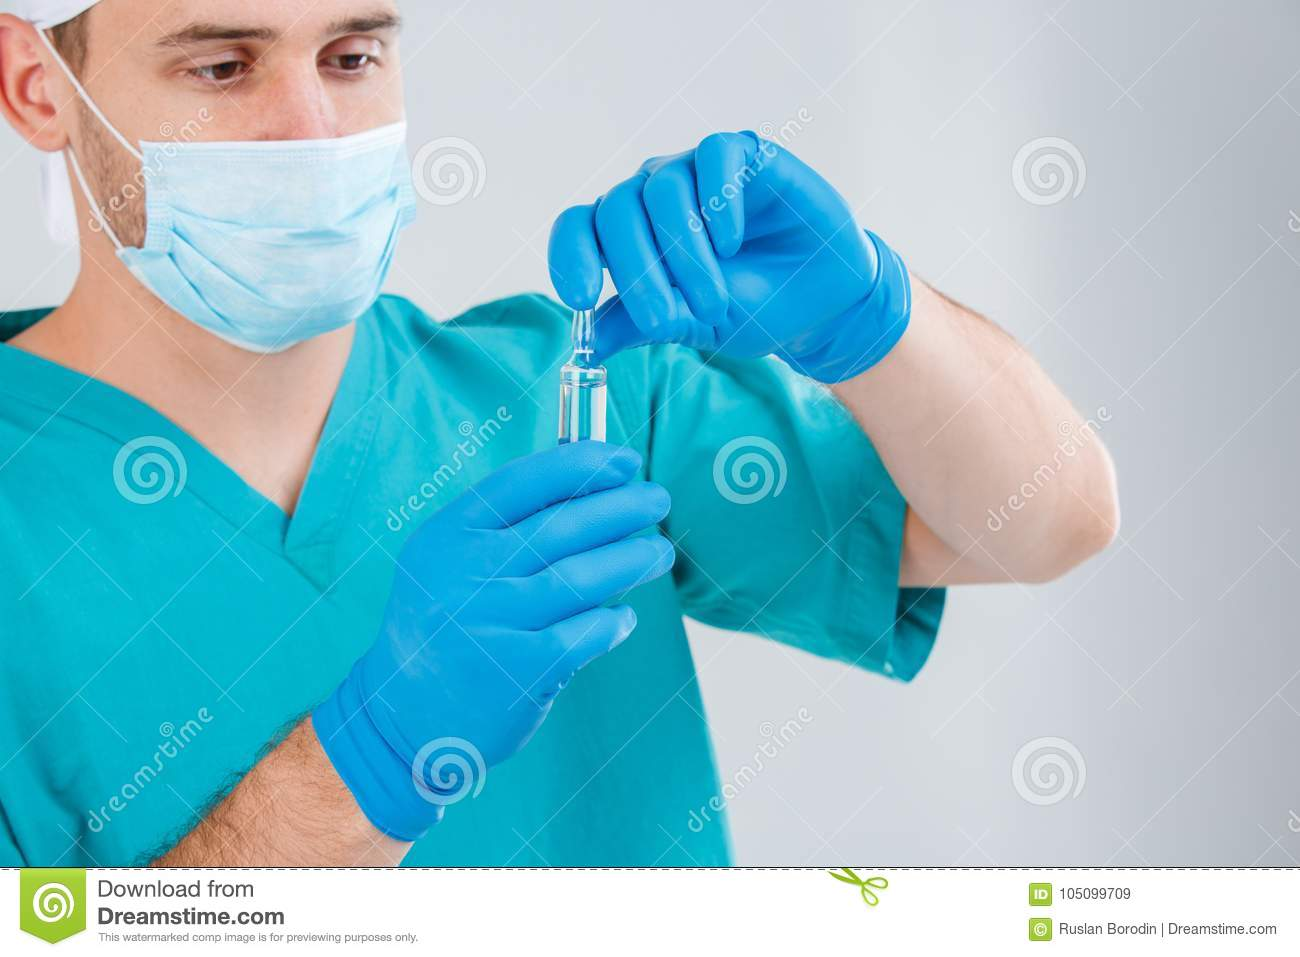mask: (139, 126, 420, 364)
